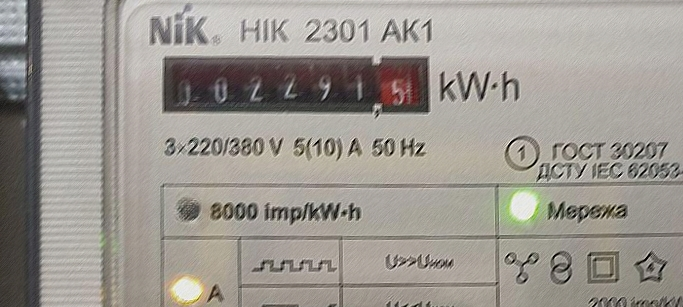0: (173, 75, 192, 105), (211, 74, 228, 104)
1: (350, 70, 365, 104)
2: (246, 73, 263, 103), (281, 70, 296, 100)
5: (389, 76, 405, 106)
9: (315, 71, 332, 102)
screen: (156, 44, 435, 127)
